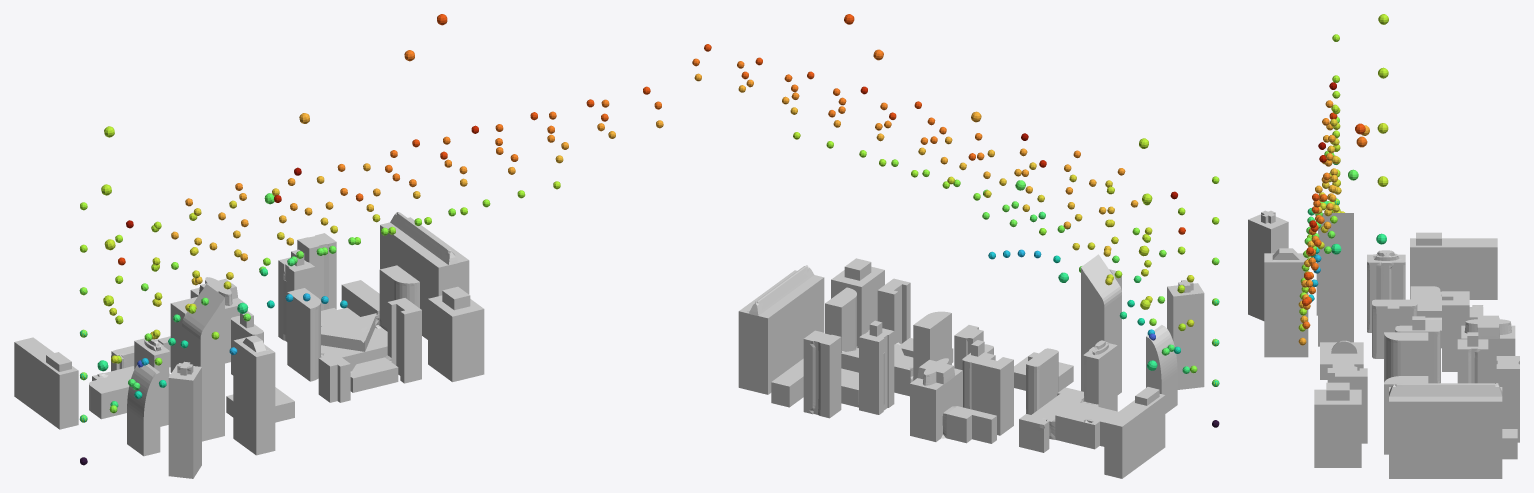
File: wab_ImportRotateScale_preAnim4.glb
3 renders of one model, left to right at view 1: azimuth 30°, elevation 25°; view 2: azimuth 150°, elevation 25°; view 3: azimuth 270°, elevation 25°, orthographic. The views are drawn at different scales.
Parts seen in each view (by area): view 1: mesh0, Renderer Node, Renderer Node.012, Renderer Node.010, Renderer Node.004; view 2: mesh0, Renderer Node, Renderer Node.012, Renderer Node.004, Renderer Node.010, Renderer Node.009, Renderer Node.005, Renderer Node.002; view 3: mesh0, Renderer Node, Renderer Node.010, Renderer Node.004, Renderer Node.009, Renderer Node.012, Renderer Node.002, Renderer Node.011.
Part boxes in pixels (left/top/right/bottom): mesh0: left=14, top=212, right=484, bottom=478; Renderer Node: left=97, top=14, right=447, bottom=371; Renderer Node.012: left=80, top=131, right=615, bottom=422; Renderer Node.010: left=110, top=120, right=663, bottom=407; Renderer Node.004: left=137, top=99, right=609, bottom=367; mesh0: left=738, top=254, right=1204, bottom=478; Renderer Node: left=844, top=14, right=1157, bottom=370; Renderer Node.012: left=738, top=85, right=1218, bottom=386; Renderer Node.004: left=737, top=61, right=1155, bottom=340; Renderer Node.010: left=694, top=73, right=1189, bottom=371; Renderer Node.009: left=784, top=74, right=1168, bottom=355; Renderer Node.005: left=692, top=58, right=1154, bottom=335; Renderer Node.002: left=807, top=71, right=1219, bottom=427; mesh0: left=1248, top=210, right=1519, bottom=478; Renderer Node: left=1331, top=14, right=1388, bottom=254; Renderer Node.010: left=1298, top=92, right=1340, bottom=345; Renderer Node.004: left=1298, top=123, right=1344, bottom=331; Renderer Node.009: left=1299, top=108, right=1340, bottom=315; Renderer Node.012: left=1300, top=34, right=1339, bottom=322; Renderer Node.002: left=1306, top=36, right=1339, bottom=256; Renderer Node.011: left=1304, top=91, right=1340, bottom=280.
Size of the model in its own units: 2.34 by 1.39 by 1.01.
17 materials, 16 textured.
